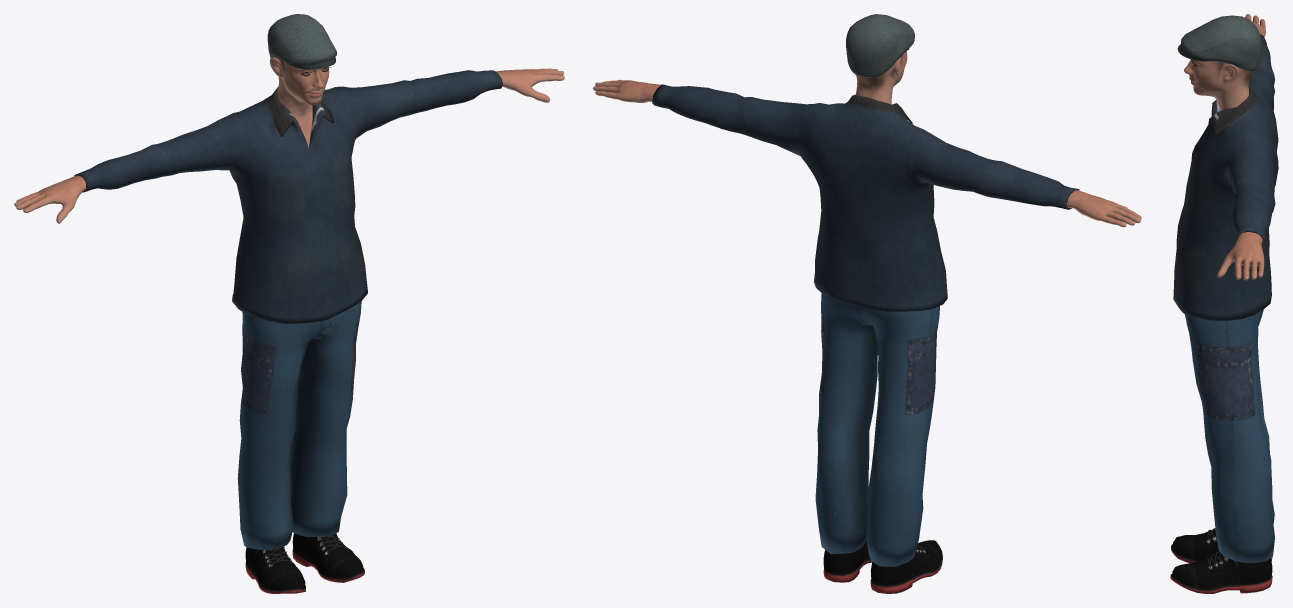
File: Sam.obj
The picture shows the model from 3 angles, left to right: view 1: azimuth 30°, elevation 25°; view 2: azimuth 150°, elevation 25°; view 3: azimuth 270°, elevation 25°; orthographic projection.
Parts seen in each view (by area): view 1: Tops, Bottoms, Body, Shoes, Hats; view 2: Tops, Bottoms, Body, Shoes, Hats; view 3: Tops, Bottoms, Shoes, Body, Hats.
Part boxes in pixels (box(x1,y1,x2,y2)): Tops: box(74, 70, 502, 323); Bottoms: box(237, 301, 361, 549); Body: box(14, 57, 564, 223); Shoes: box(245, 533, 364, 593); Hats: box(267, 14, 336, 69); Tops: box(652, 84, 1079, 311); Bottoms: box(815, 293, 939, 566); Body: box(593, 50, 1141, 227); Shoes: box(823, 540, 942, 593); Hats: box(846, 14, 914, 77); Tops: box(1173, 34, 1278, 320); Bottoms: box(1185, 309, 1274, 563); Shoes: box(1170, 528, 1272, 593); Body: box(1184, 14, 1265, 280); Hats: box(1177, 15, 1261, 71).
Bounding box in the file's own units: 187 × 182 × 32.04.
Materials: 1 (1 with a texture image).
